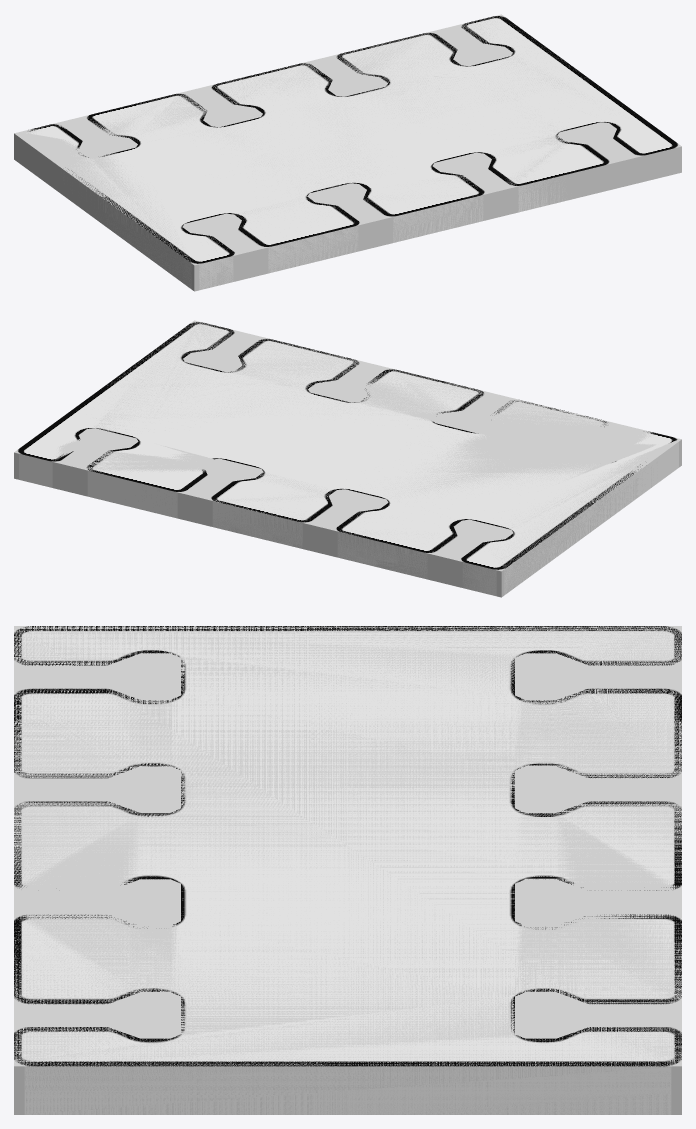
File: StackedGIK_10mmSpacing.fbx
3 renders of one model, top to bottom at view 1: azimuth 30°, elevation 25°; view 2: azimuth 150°, elevation 25°; view 3: azimuth 270°, elevation 25°, orthographic. The views are drawn at different scales.
Parts seen in each view (by area): view 1: Rectangle001, Rectangle003; view 2: Rectangle001, Rectangle003; view 3: Rectangle001, Rectangle003.
Part boxes in pixels (x1,y1,x2,y2): Rectangle001: [26, 15, 678, 289]; Rectangle003: [14, 14, 681, 291]; Rectangle001: [17, 321, 678, 596]; Rectangle003: [14, 320, 681, 597]; Rectangle001: [14, 626, 681, 1114]; Rectangle003: [14, 626, 681, 1114].
Size of the model in its own units: 39 by 2 by 25.
1 material, 1 textured.
